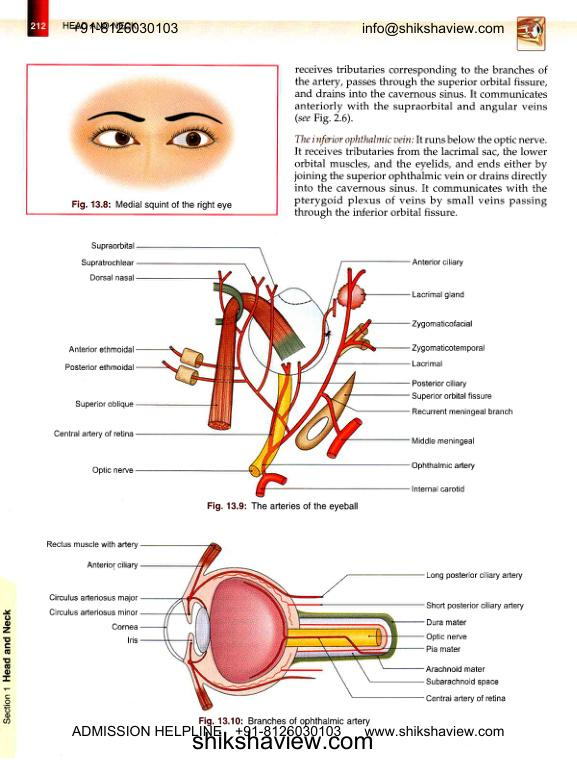caption: (70, 199, 233, 212), (198, 716, 372, 727), (206, 501, 359, 513)
header: (61, 21, 139, 30)
image: (40, 233, 528, 500), (41, 533, 531, 714), (26, 63, 279, 216)
sub-section-heading: (294, 133, 414, 146)
text: (293, 133, 548, 220), (294, 64, 549, 126)
